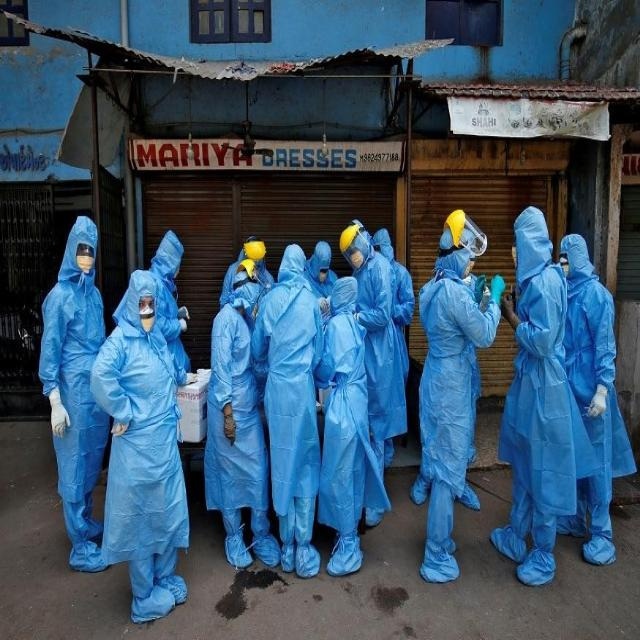Coverall: (95, 246, 192, 612), (34, 190, 120, 577), (247, 210, 332, 578), (405, 200, 484, 595), (500, 187, 573, 575), (549, 202, 621, 563), (324, 185, 404, 507), (208, 238, 271, 575), (315, 242, 367, 545)
Gloves: (33, 404, 88, 442)
Mask: (70, 250, 104, 275), (133, 304, 159, 332), (342, 253, 365, 273)
